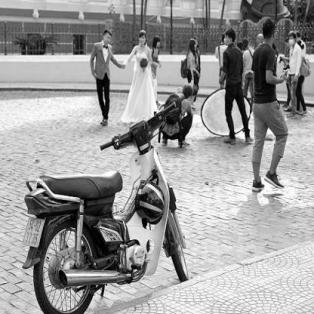Motocicleta: (19, 102, 192, 313)
